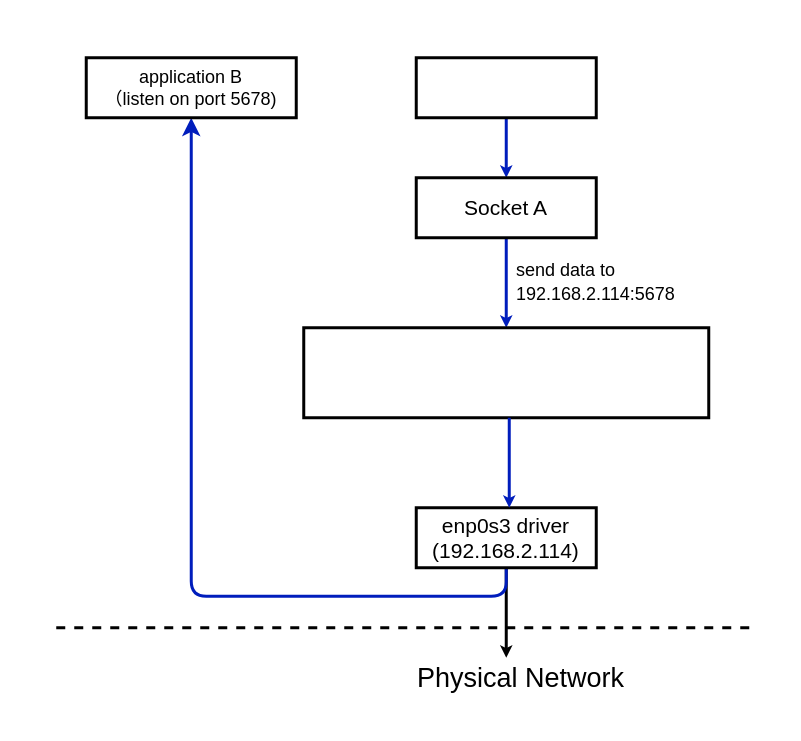
This 801x741 diagram has some shape labels left out. Each missing label, with the box of its shape:
application A: (414, 56, 597, 118)
Network Protocol Stack(Linux Kernel): (302, 326, 710, 418)
